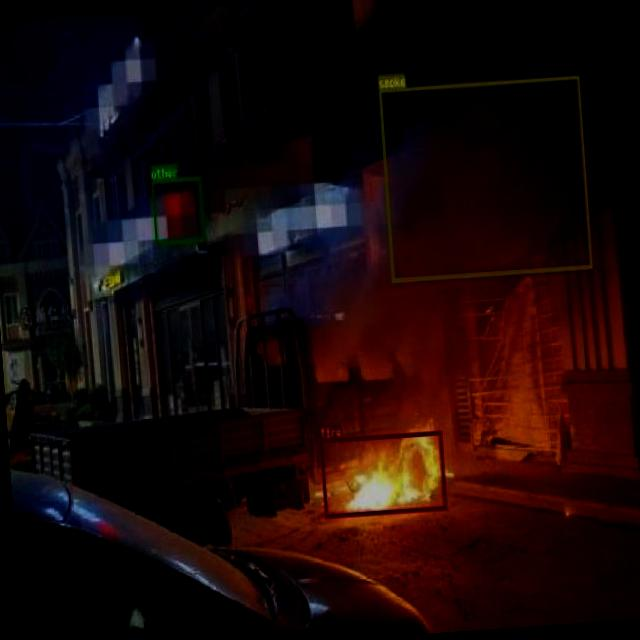fire: (319, 430, 446, 516)
smoke: (378, 74, 592, 282)
